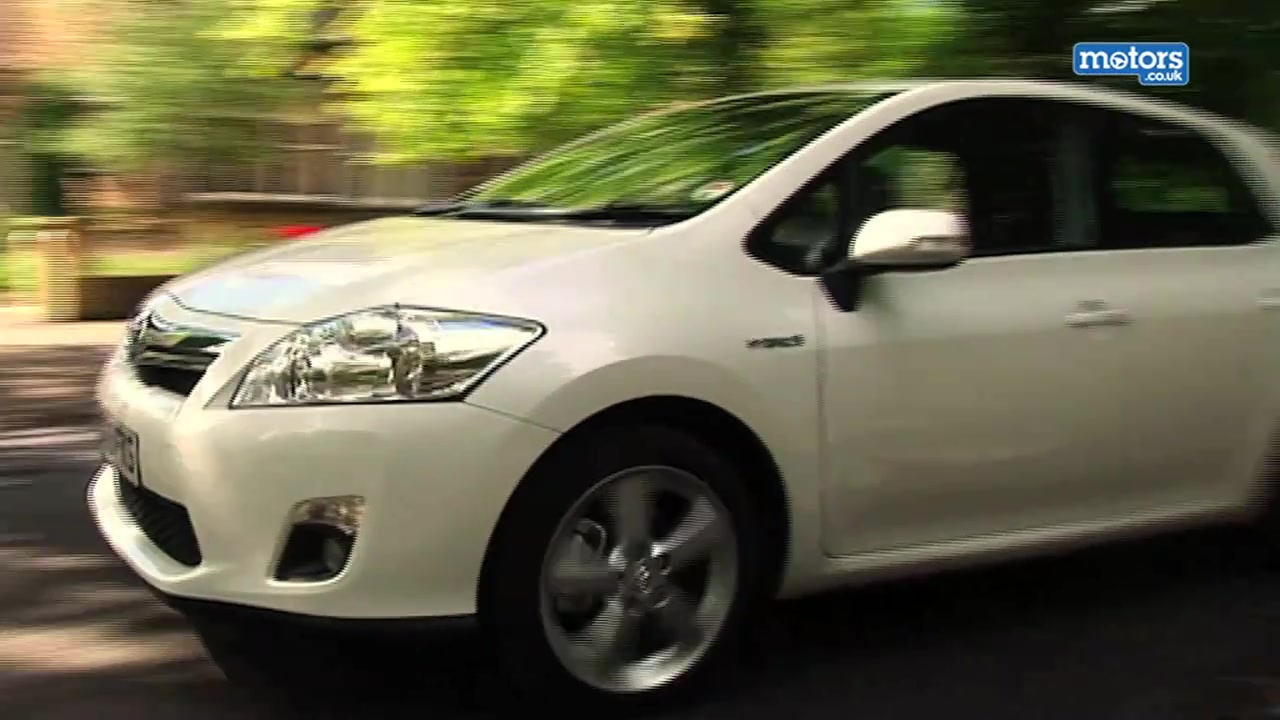car: (84, 76, 1280, 713)
